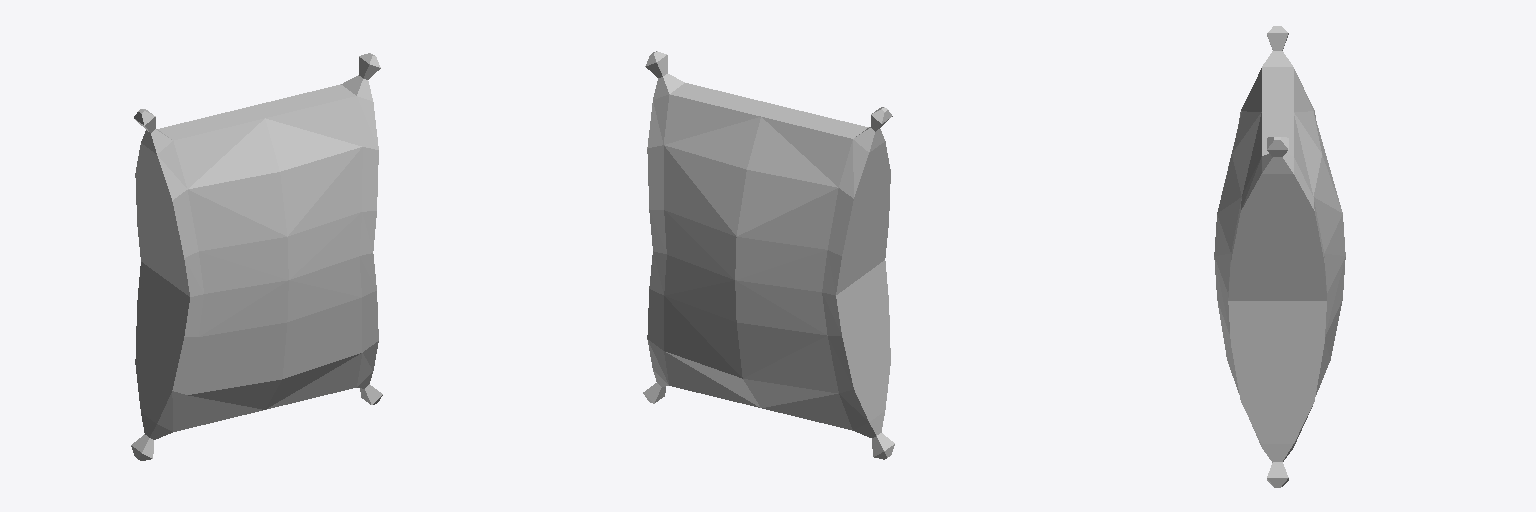
File: sack.obj
3 views of the same model, side by side, from view 1: azimuth 30°, elevation 25°; view 2: azimuth 150°, elevation 25°; view 3: azimuth 270°, elevation 25° (orthographic).
Parts seen in each view (by area): view 1: Box001; view 2: Box001; view 3: Box001.
Part boxes in pixels (x1,y1,x2,y2): Box001: (131,53,382,460); Box001: (643,51,894,459); Box001: (1214,26,1345,487).
Bounding box in the file's own units: 31.83 × 44.12 × 15.03.